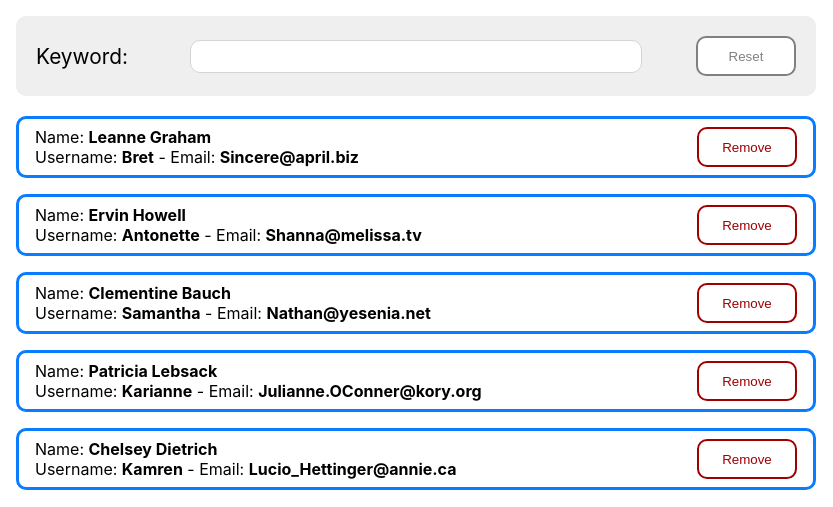
Scenario: App › Filters data
Type "Sincere@april.biz" into the field. click: x=416, y=56
box: [190,40,642,72]
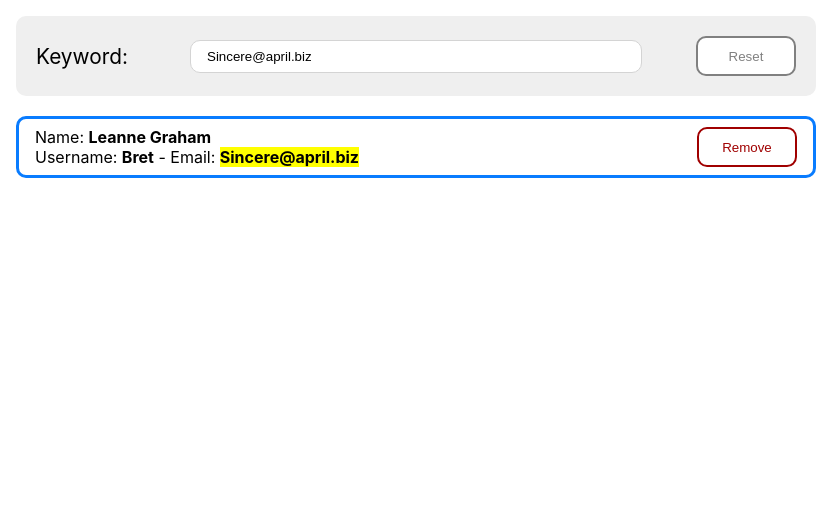
Expected: the text "Sincere@april.biz" is shown, [220,147,359,167]
Result: the number of list items is 1 at [16,116,816,178]
